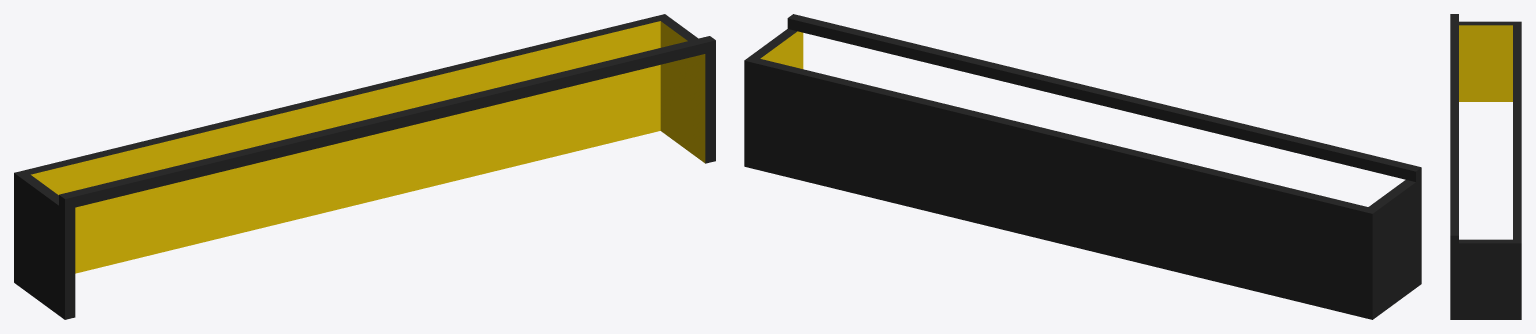
Rendered from GoalYellow.dae.
3 views of the same model, side by side, from view 1: azimuth 30°, elevation 25°; view 2: azimuth 150°, elevation 25°; view 3: azimuth 270°, elevation 25° (orthographic). The views are drawn at different scales.
Parts seen in each view (by area): view 1: SketchUp (×2); view 2: SketchUp (×2); view 3: SketchUp (×2).
Part boxes in pixels (x1=…): SketchUp (×2): x1=14, y1=14, x2=715, y2=319; SketchUp (×2): x1=744, y1=14, x2=1421, y2=319; SketchUp (×2): x1=1450, y1=14, x2=1521, y2=319.
Bounding box in the file's own units: 24.41 × 3.31 × 4.33.
